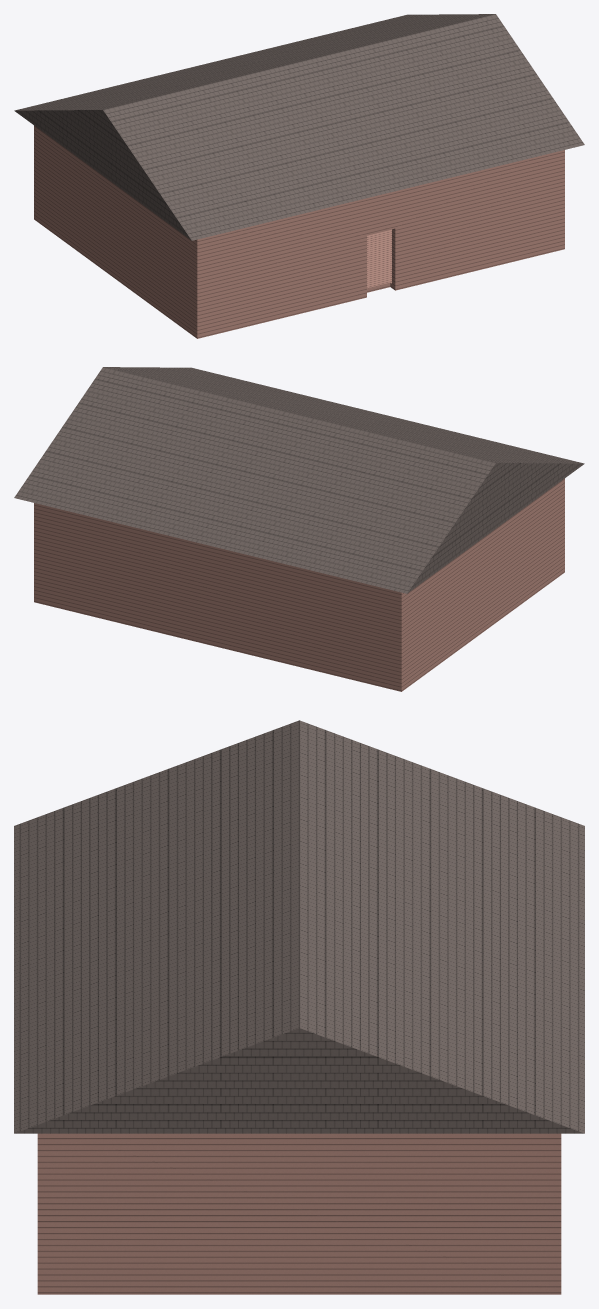
The model's file is split_level.glb.
The picture shows the model from 3 angles, top to bottom: view 1: azimuth 30°, elevation 25°; view 2: azimuth 150°, elevation 25°; view 3: azimuth 270°, elevation 25°; orthographic projection. The views are drawn at different scales.
Visible parts, largest first — view 1: split_level-col; view 2: split_level-col; view 3: split_level-col.
Part boxes in pixels (bbox=[...]): split_level-col: bbox=[14, 14, 584, 338]; split_level-col: bbox=[14, 367, 584, 691]; split_level-col: bbox=[14, 720, 584, 1294].
Size of the model in its own units: 13.9 by 5.83 by 10.9.
2 materials, 2 textured.
